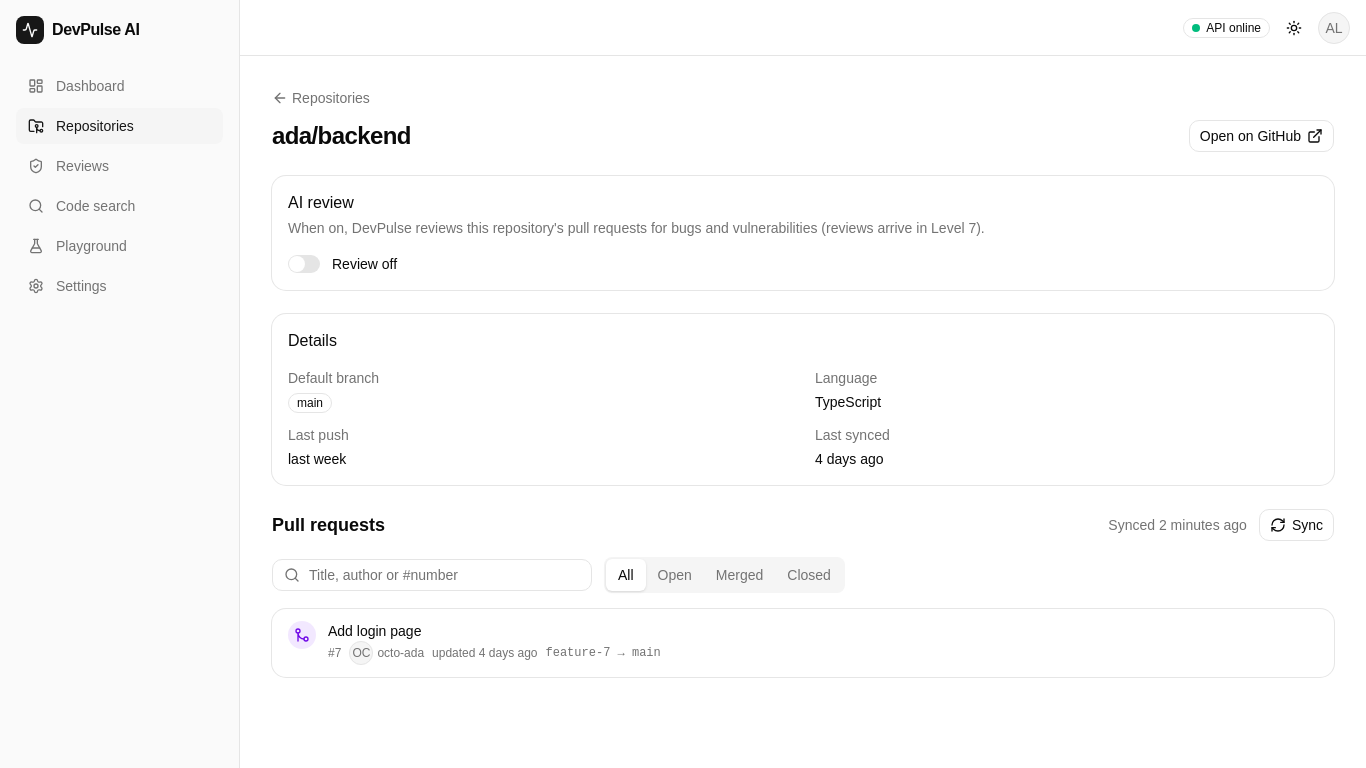
Test: Pull request page › shows the pull request, its description and the diff of each file
The width and height of the screenshot is (1366, 768).
What coordinates should you click on to do the following:
click the link "Add login page"
I would click on:
 (375, 631)
Its box is x1=328 y1=623 x2=421 y2=639.
(page scrolled)
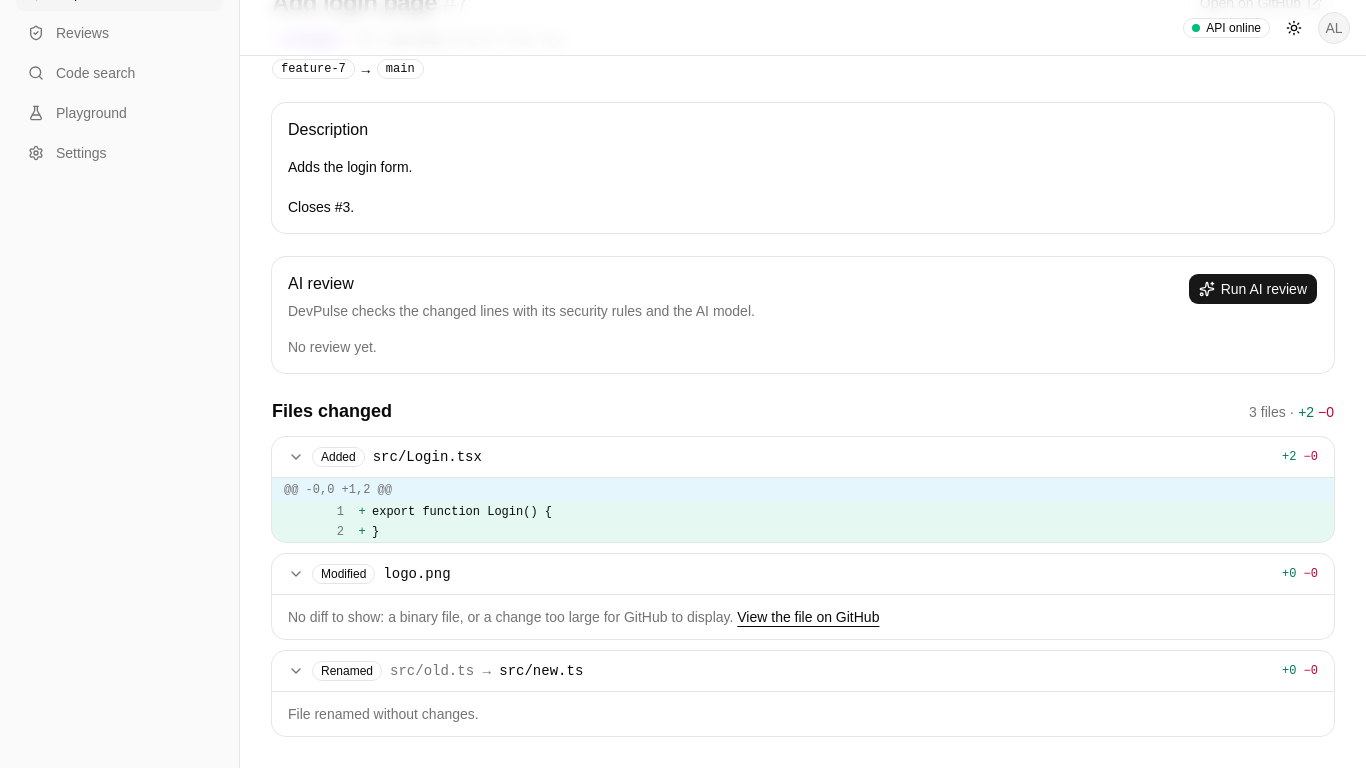
Check: the text "Adds the login form. Closes #3." is shown, box x1=288 y1=159 x2=412 y2=215
Check: the text "3 files ·" is shown, box x1=1249 y1=402 x2=1334 y2=422
Check: the row "@@ -0,0 +1,2 @@" is shown, box x1=272 y1=478 x2=1334 y2=502
